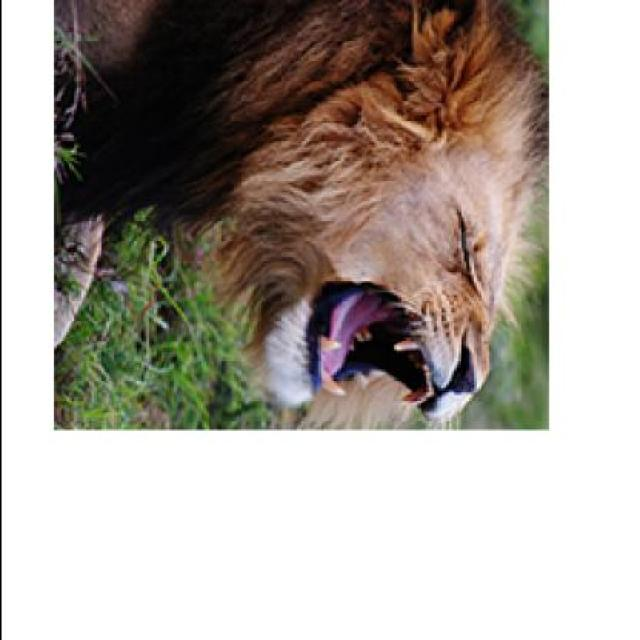Lion: (40, 3, 529, 431)
